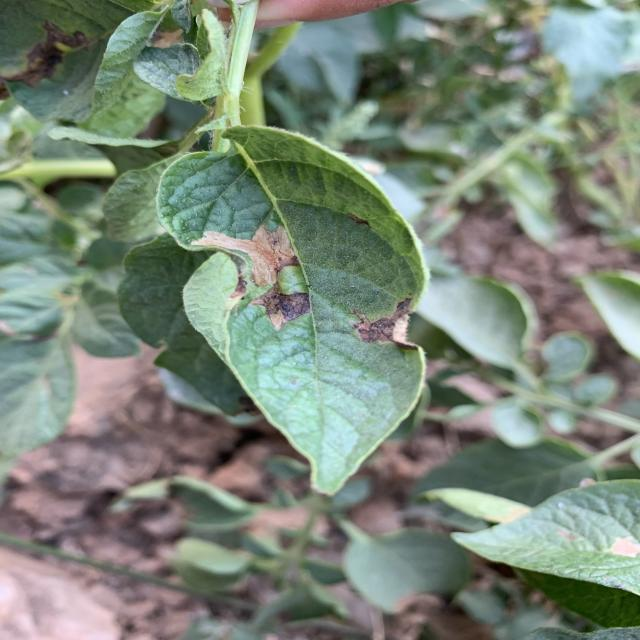lateblight: (190, 225, 298, 286), (353, 299, 417, 349), (250, 285, 310, 330)
